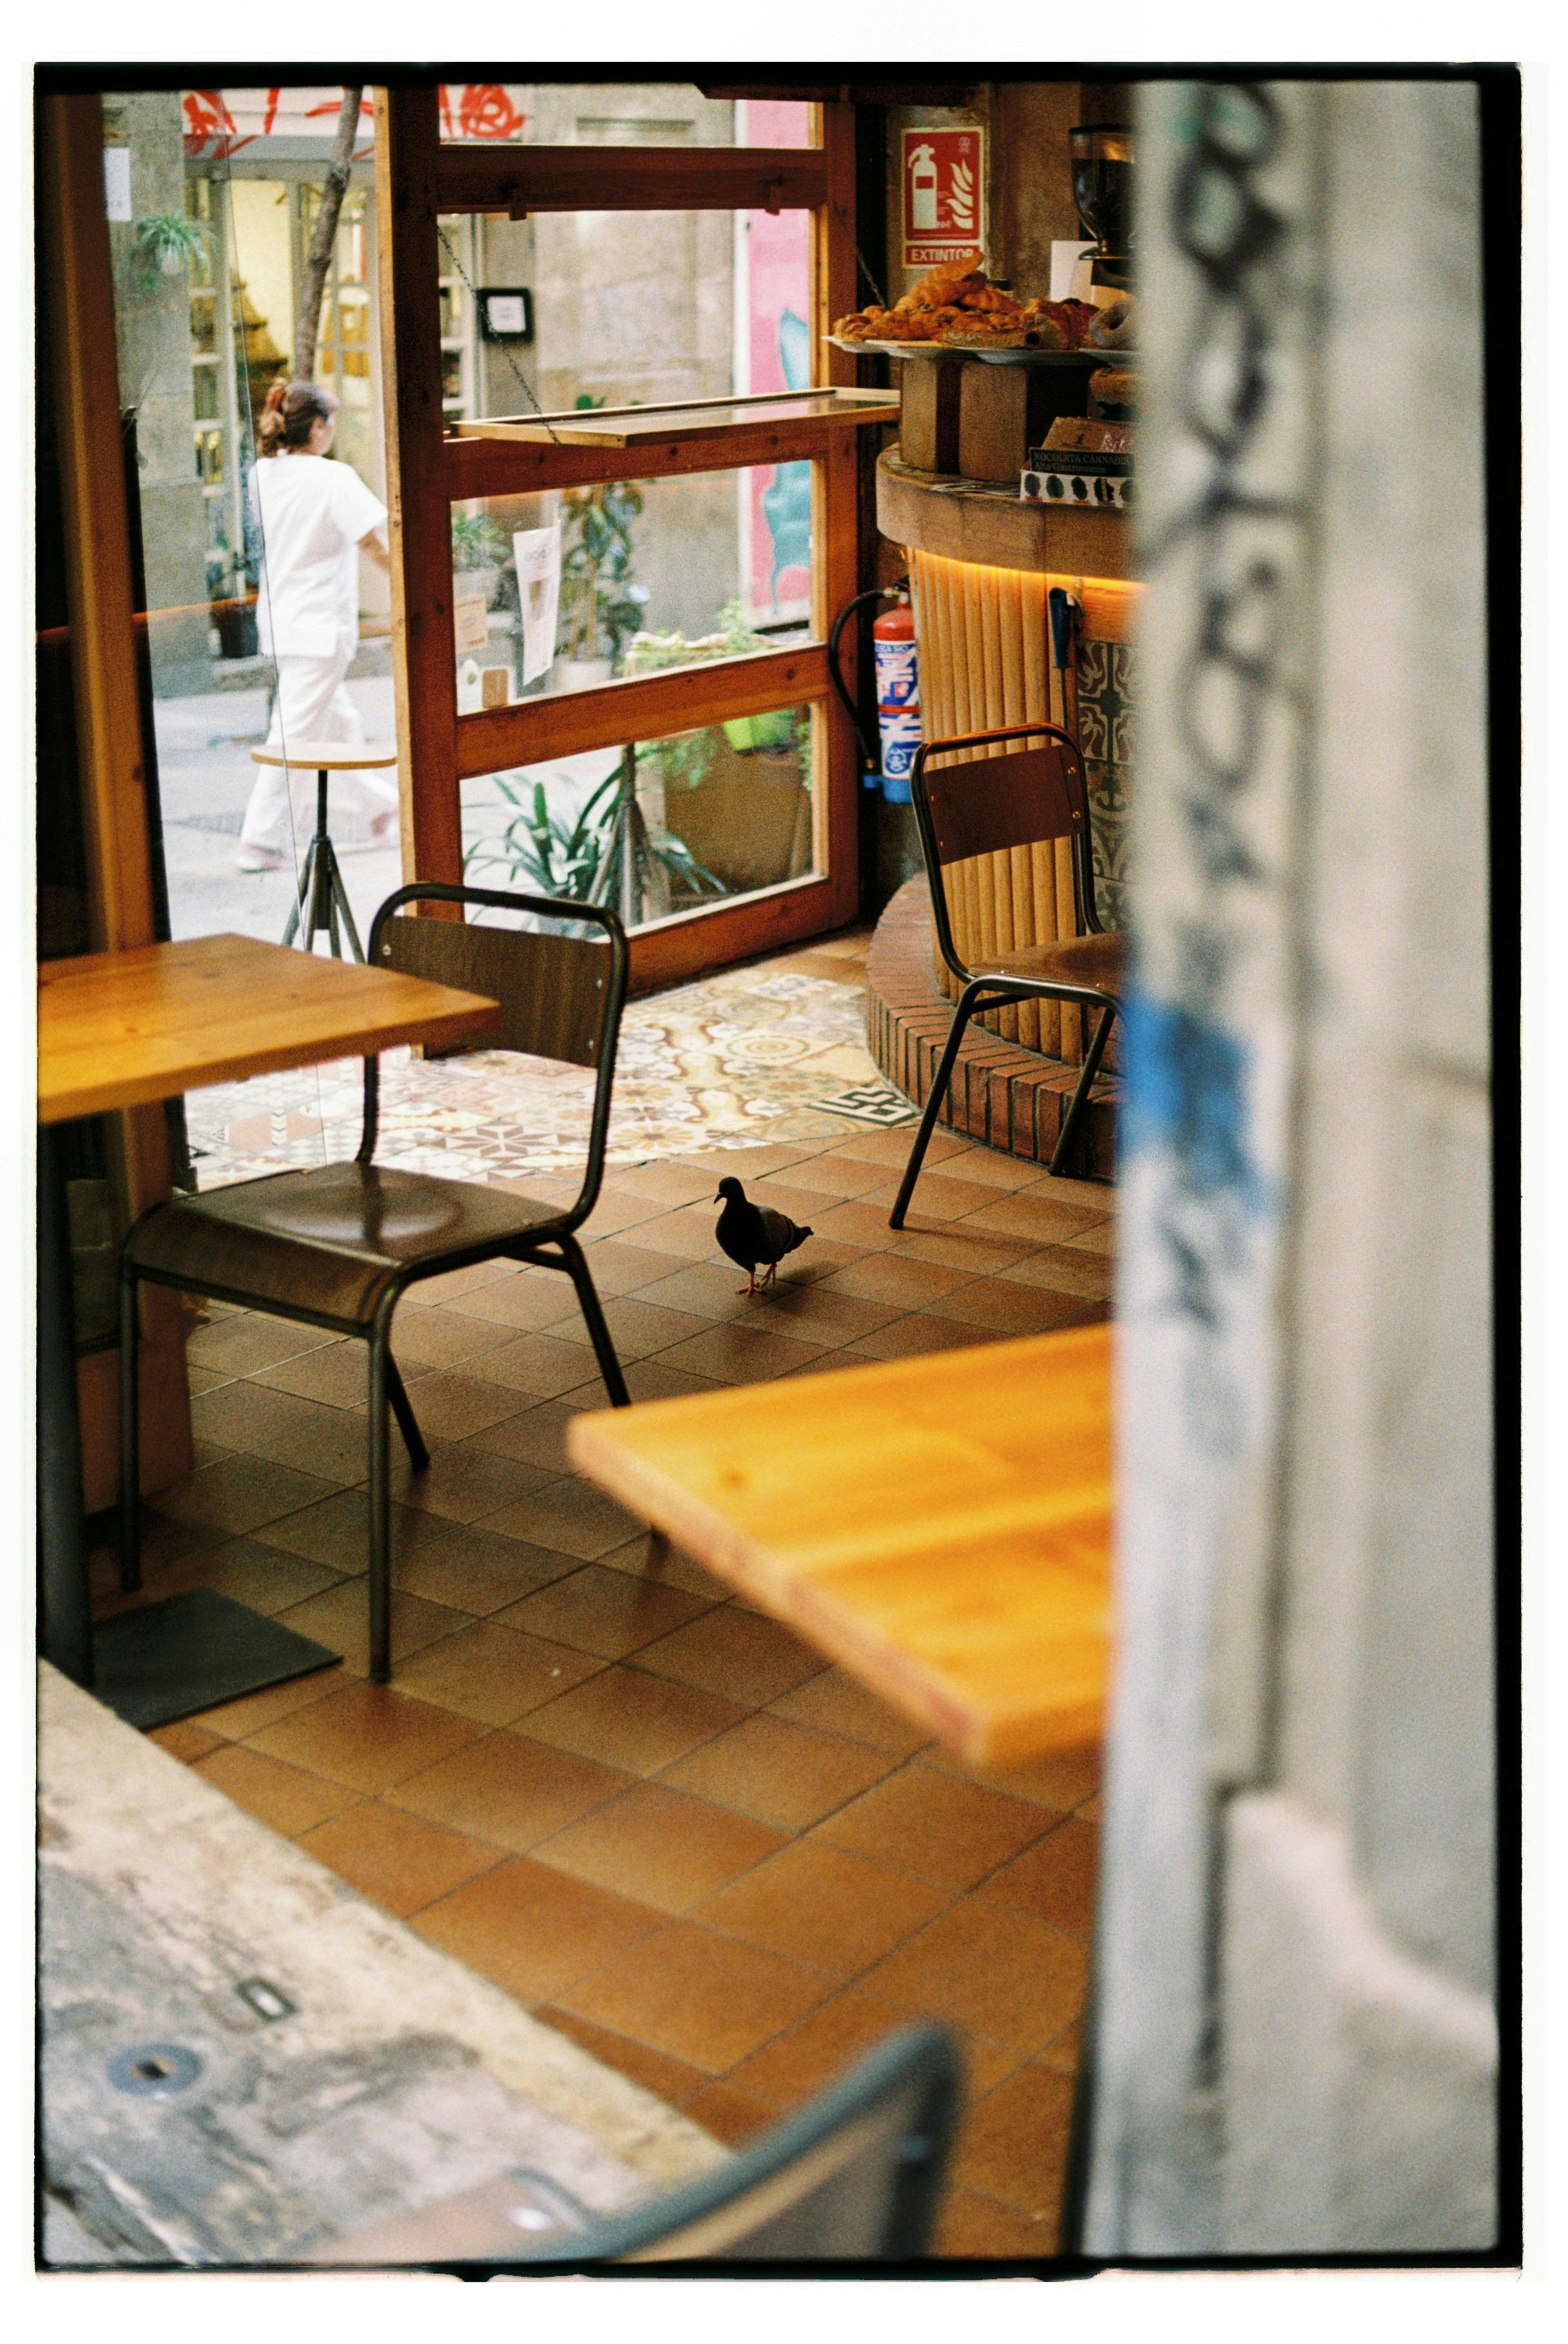extintor: (821, 567, 929, 815)
